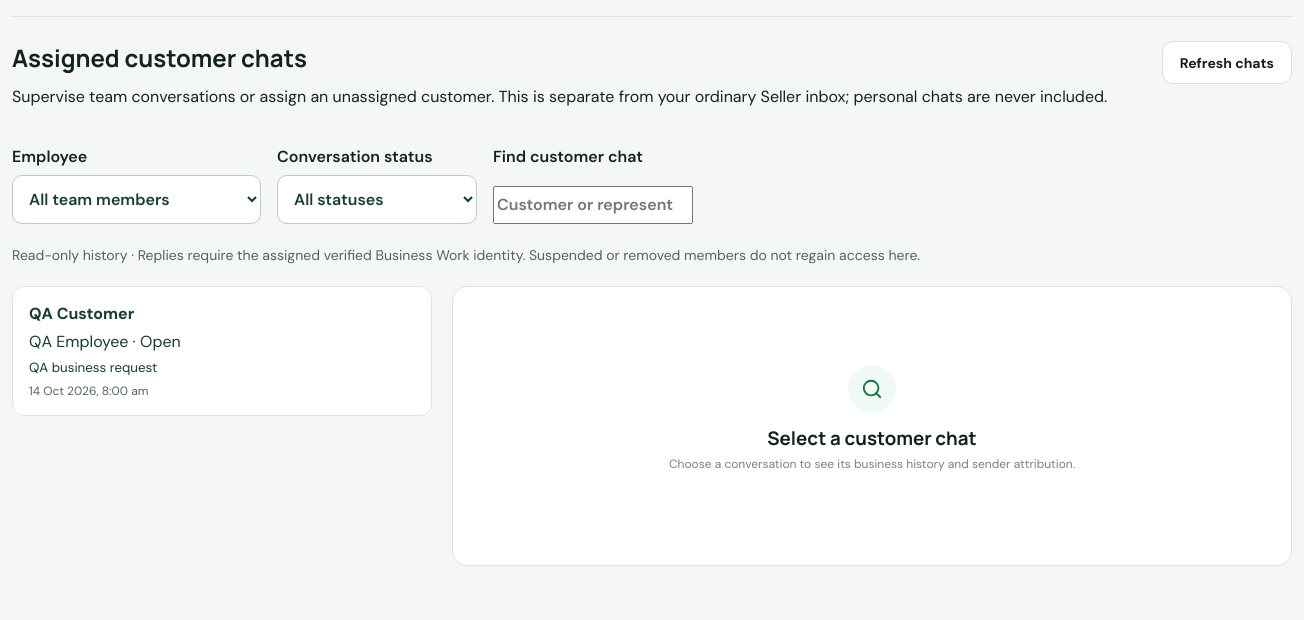
Test: supervised customer chats › clears visible history after permissions fail on refresh
Click the button "QA Customer" at (82, 313), box [12,286,432,416]
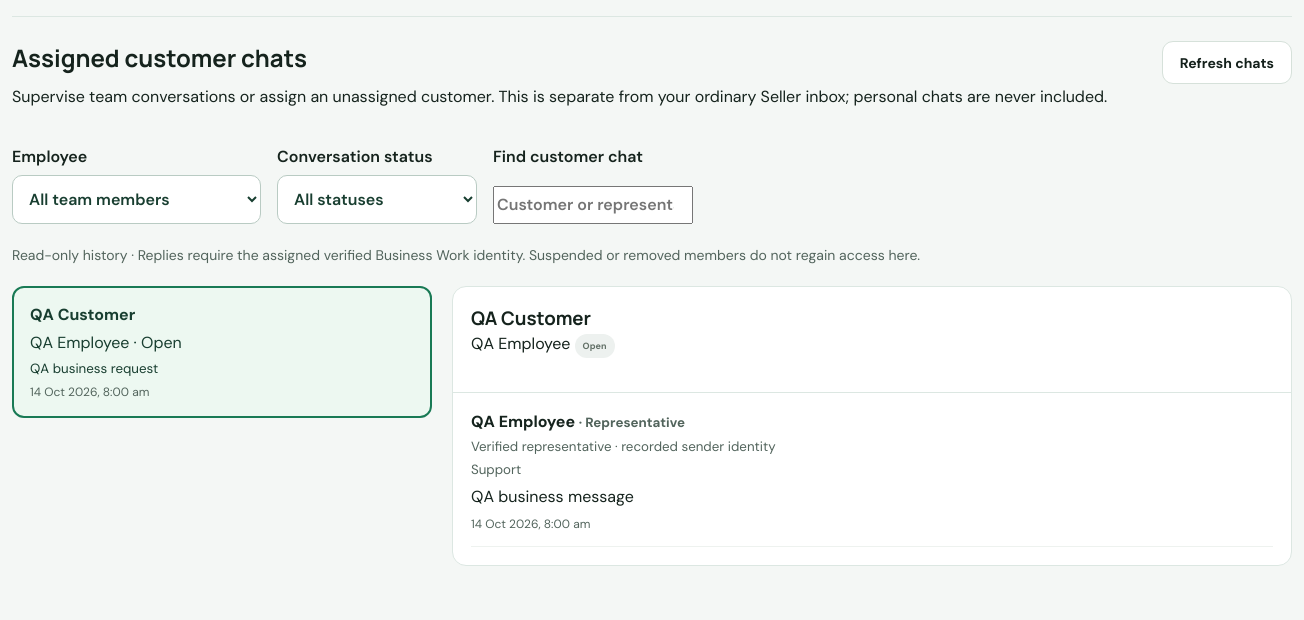
Expected: the text "QA business message" is shown, [471,486,634,507]
Click the button "Refresh chats" at (1227, 62), box [1162,41,1292,84]
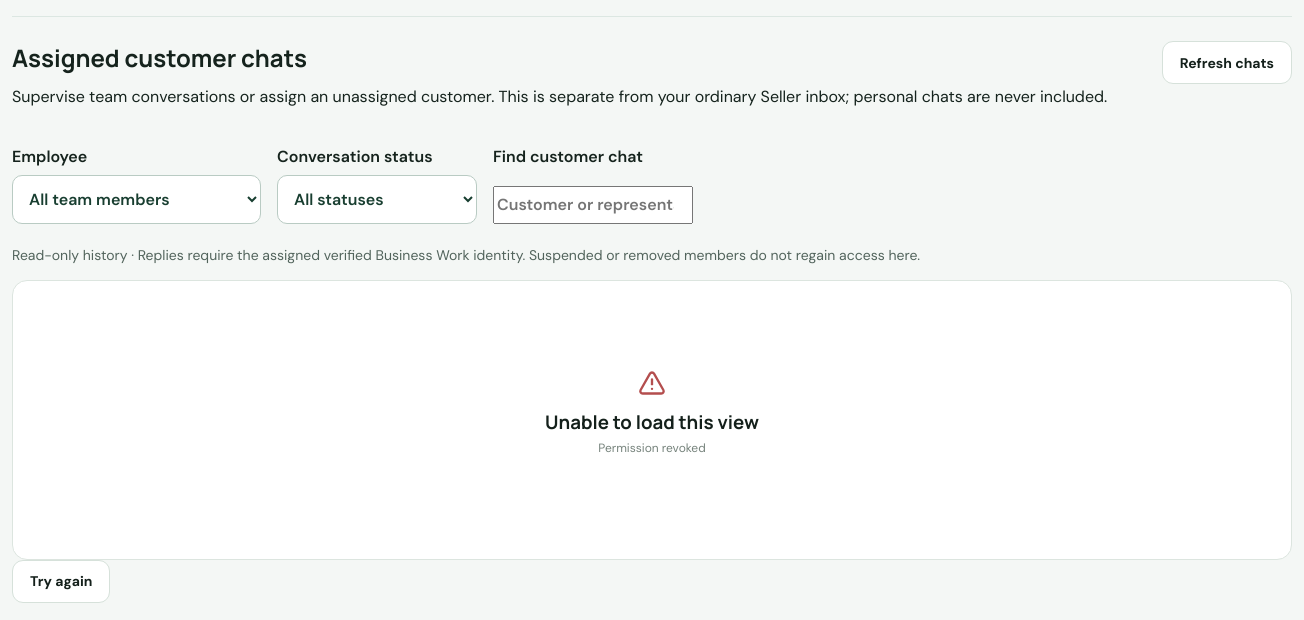
Expected: the text "QA business message" is gone
Expected: the text "Permission revoked" is shown, [598,439,706,459]
